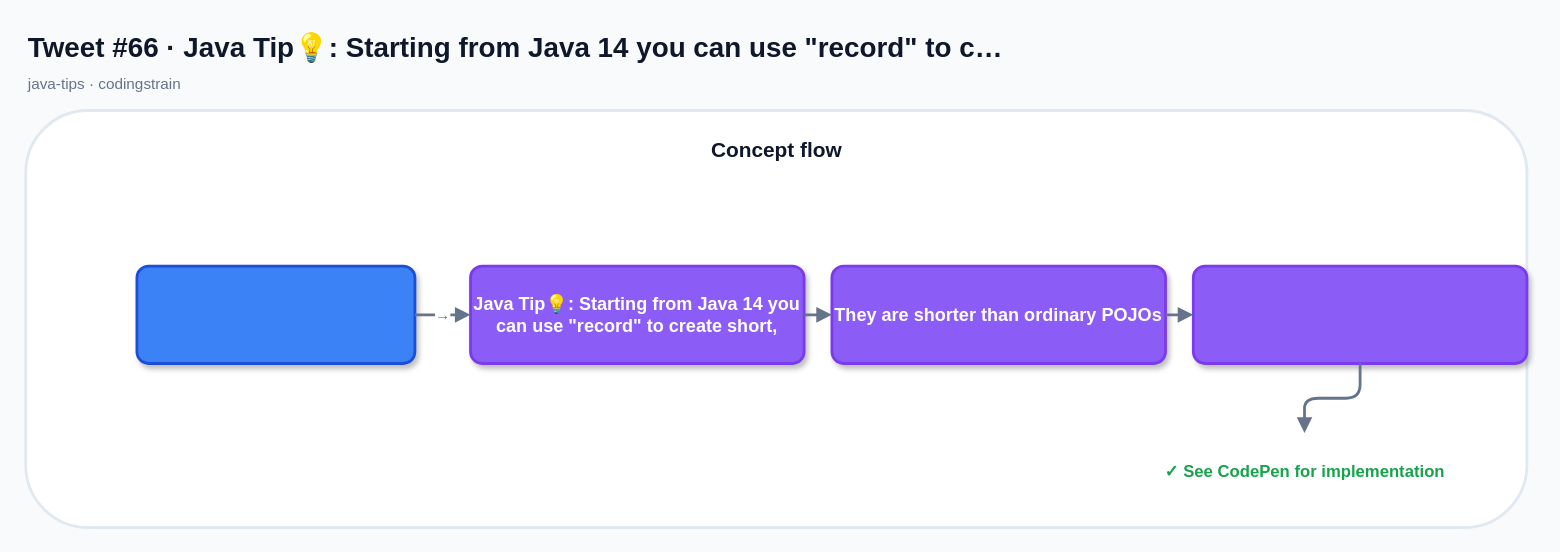
Some shapes in this 1560 by 552 pixel diagram are drawn without their labels. The centre of each missing label's shape, as x and y in pixels:
Problem / context: [276,316]
They have built-in equals(), hashCode(), toString(): [1361,316]
